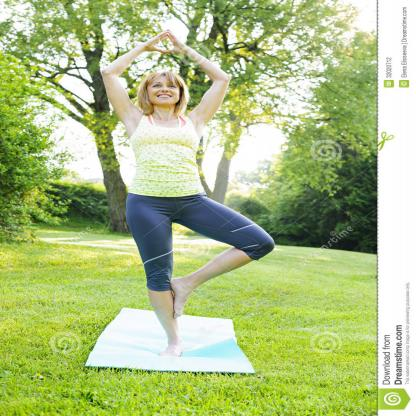tree: (90, 22, 280, 372)
